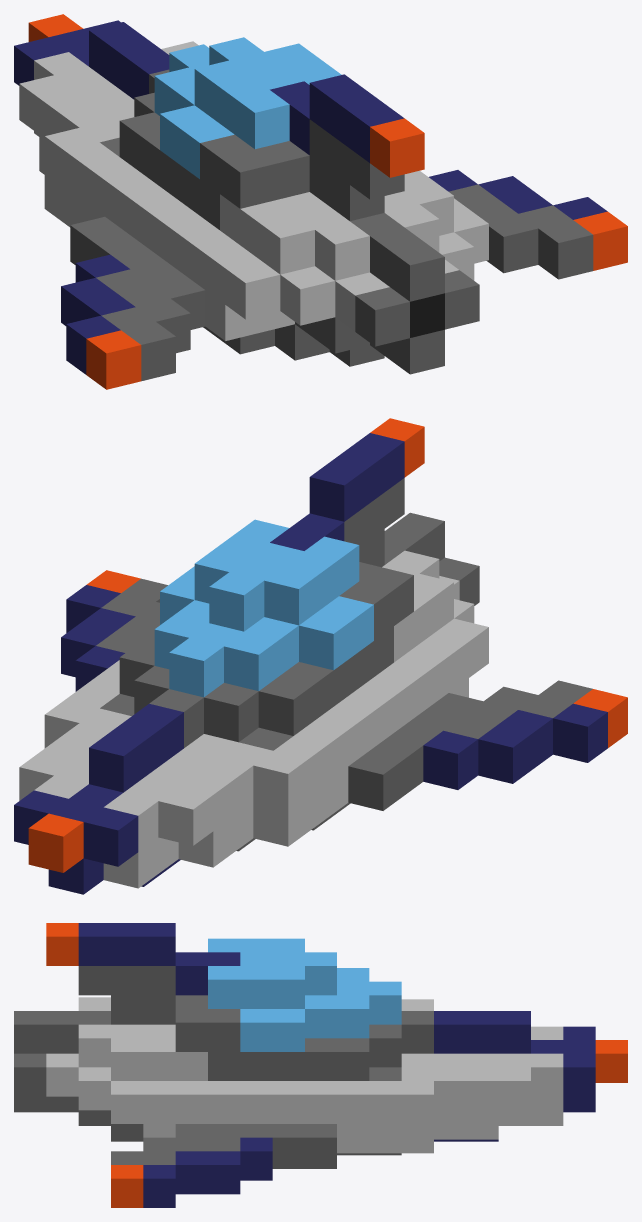
File: speeder_6.glb
3 views of the same model, one above another, from view 1: azimuth 30°, elevation 25°; view 2: azimuth 150°, elevation 25°; view 3: azimuth 270°, elevation 25° (orthographic). The views are drawn at different scales.
Bounding box in the file's own units: 15 × 7 × 19.
